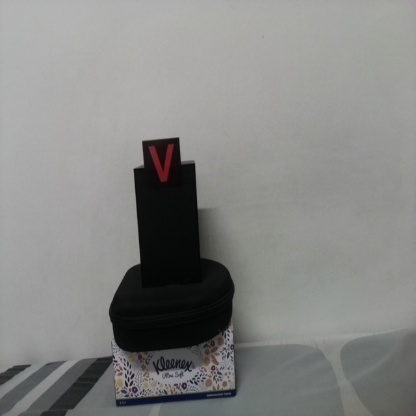id_11: (143, 141, 180, 194)
